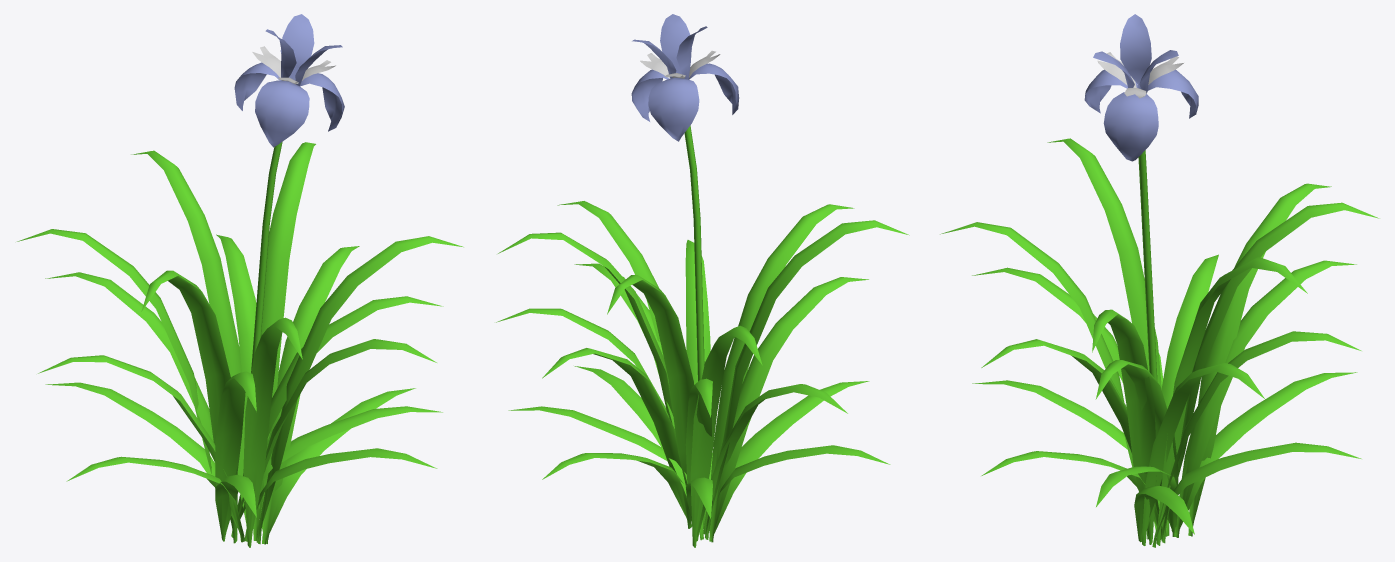
The model's file is swamp_iris.fbx.
The picture shows the model from 3 angles, left to right: view 1: azimuth 30°, elevation 25°; view 2: azimuth 150°, elevation 25°; view 3: azimuth 270°, elevation 25°; orthographic projection. The views are drawn at different scales.
Parts seen in each view (by area): view 1: Iris_leaves, Iris.002; view 2: Iris_leaves, Iris.002; view 3: Iris_leaves, Iris.002.
Part boxes in pixels (bbox=[...]): Iris_leaves: bbox=[17, 142, 463, 547]; Iris.002: bbox=[234, 14, 344, 476]; Iris_leaves: bbox=[496, 201, 909, 547]; Iris.002: bbox=[631, 14, 739, 381]; Iris_leaves: bbox=[940, 138, 1379, 547]; Iris.002: bbox=[1084, 14, 1198, 381].
Size of the model in its own units: 0.8344 by 1.1 by 0.8308.
